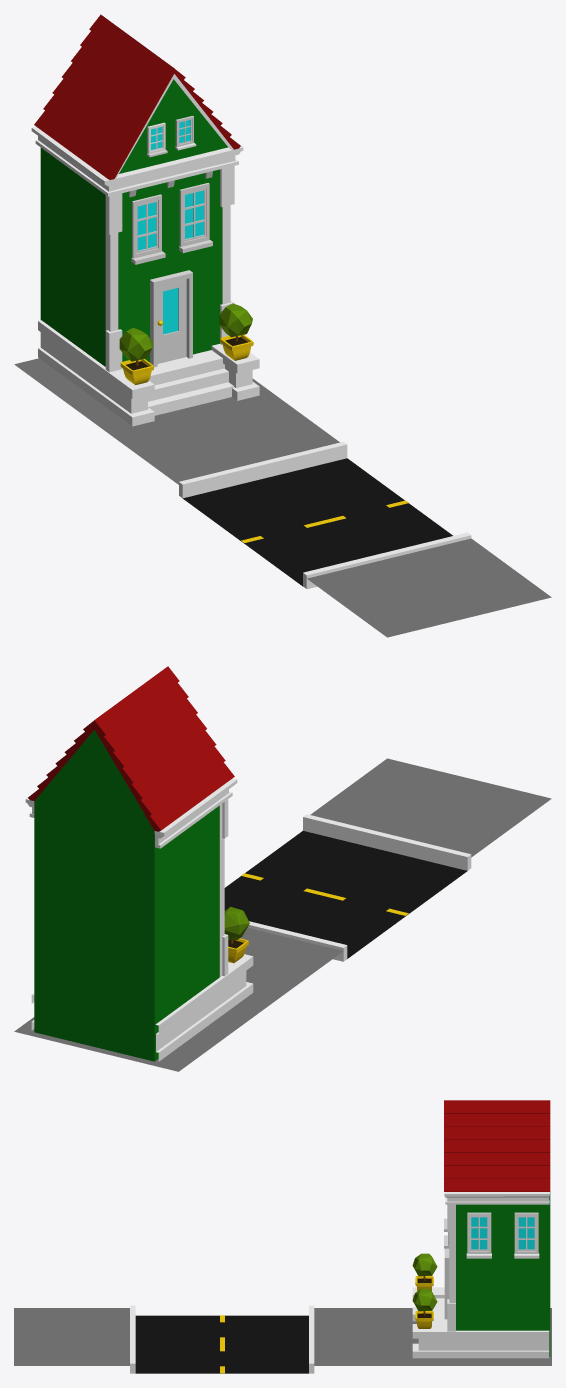
Rendered from Street05.FBX.
3 views of the same model, one above another, from view 1: azimuth 30°, elevation 25°; view 2: azimuth 150°, elevation 25°; view 3: azimuth 270°, elevation 25° (orthographic). The views are drawn at different scales.
Parts seen in each view (by area): view 1: Box004, House01, Plane001, Cylinder003, Cylinder020, Box030, Box022, PivotDoor001, Box021, Box019, Box015, Box011 (+6 smaller); view 2: Box004, House01, Plane001, Cylinder020, Cylinder003, Box030, Box022, Box021, GeoSphere002; view 3: House01, Plane001, Box004, Cylinder003, Cylinder020, Box011, Box022, Box019, FixedWindow005, FixedWindow013, GeoSphere001, GeoSphere002 (+1 smaller).
Part boxes in pixels (left/top/right/bottom): Box004: left=40, top=79, right=227, bottom=366; House01: left=34, top=14, right=471, bottom=588; Plane001: left=182, top=458, right=452, bottom=586; Cylinder003: left=14, top=358, right=339, bottom=484; Cylinder020: left=307, top=538, right=551, bottom=637; Box030: left=38, top=320, right=154, bottom=426; Box022: left=31, top=126, right=243, bottom=196; PivotDoor001: left=150, top=270, right=192, bottom=367; Box021: left=105, top=193, right=122, bottom=372; Box019: left=220, top=166, right=234, bottom=344; Box015: left=149, top=350, right=224, bottom=385; Box011: left=211, top=344, right=259, bottom=400; Box004: left=34, top=730, right=219, bottom=1061; House01: left=28, top=666, right=471, bottom=961; Plane001: left=224, top=831, right=467, bottom=958; Cylinder020: left=310, top=758, right=551, bottom=857; Cylinder003: left=14, top=927, right=343, bottom=1071; Box030: left=155, top=954, right=253, bottom=1061; Box022: left=25, top=778, right=237, bottom=848; Box021: left=219, top=799, right=228, bottom=976; GeoSphere002: left=224, top=906, right=249, bottom=940; House01: left=130, top=1100, right=550, bottom=1373; Plane001: left=135, top=1315, right=308, bottom=1373; Box004: left=456, top=1192, right=550, bottom=1356; Cylinder003: left=314, top=1308, right=551, bottom=1365; Cylinder020: left=14, top=1308, right=129, bottom=1365; Box011: left=412, top=1324, right=549, bottom=1358; Box022: left=444, top=1192, right=549, bottom=1204; Box019: left=447, top=1204, right=455, bottom=1331; FixedWindow005: left=467, top=1212, right=491, bottom=1253; FixedWindow013: left=514, top=1212, right=538, bottom=1253; GeoSphere001: left=412, top=1288, right=437, bottom=1311; GeoSphere002: left=412, top=1253, right=437, bottom=1276.
Size of the model in its own units: 31.89 by 62.97 by 125.
